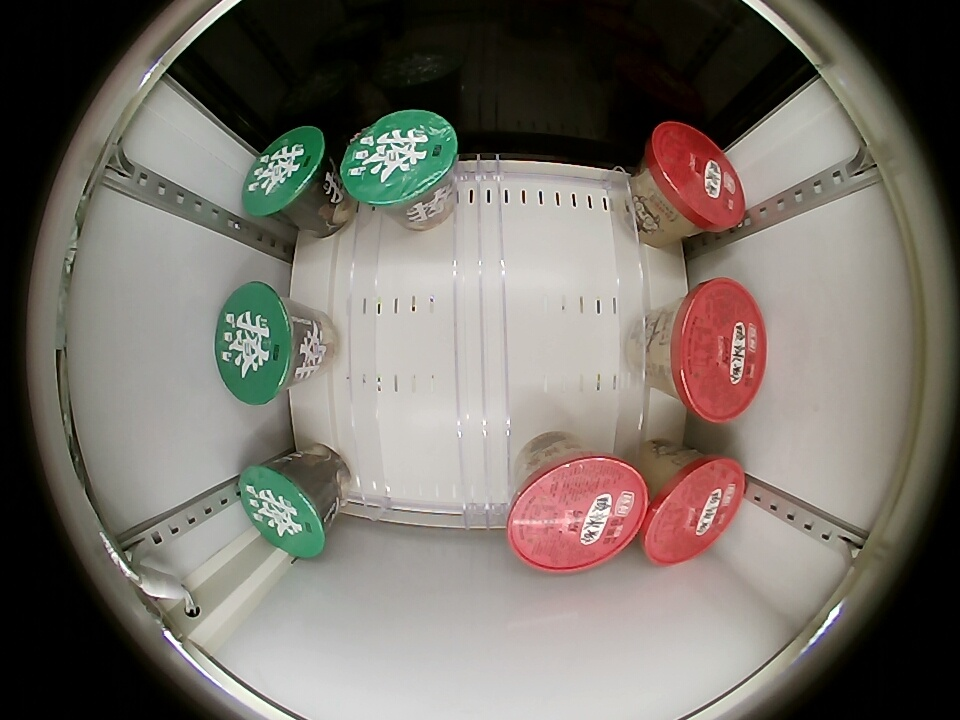liaomian: (339, 111, 459, 213), (215, 282, 307, 404), (239, 459, 332, 558), (242, 126, 336, 221)
suanlafen: (506, 446, 649, 572), (652, 278, 767, 422), (641, 450, 746, 564), (638, 121, 744, 233)
